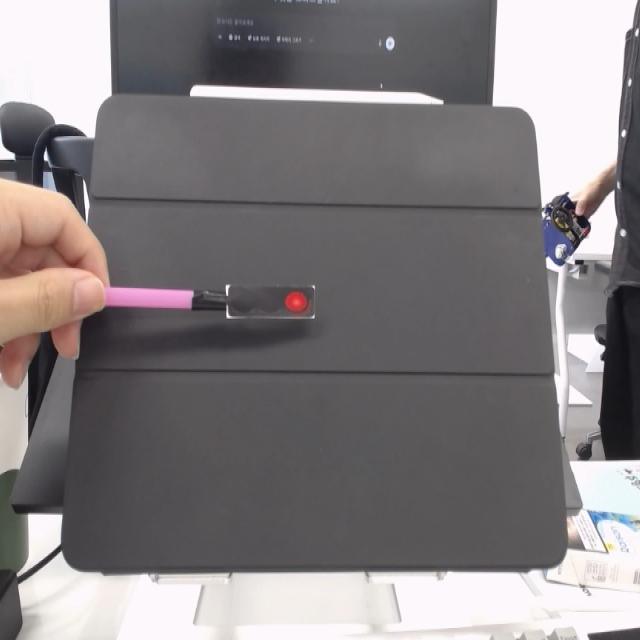traffic light: (226, 285, 315, 321)
